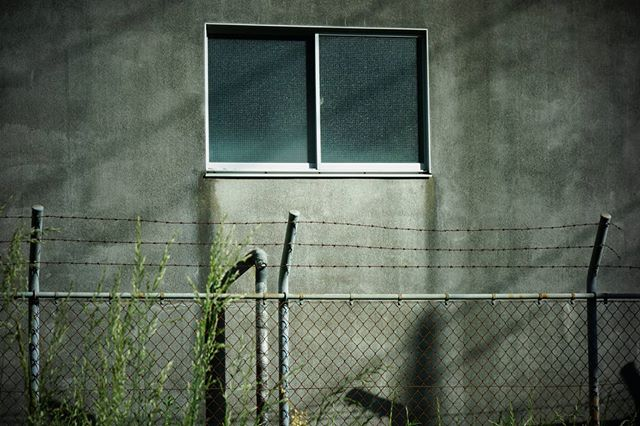window: (206, 22, 438, 179)
